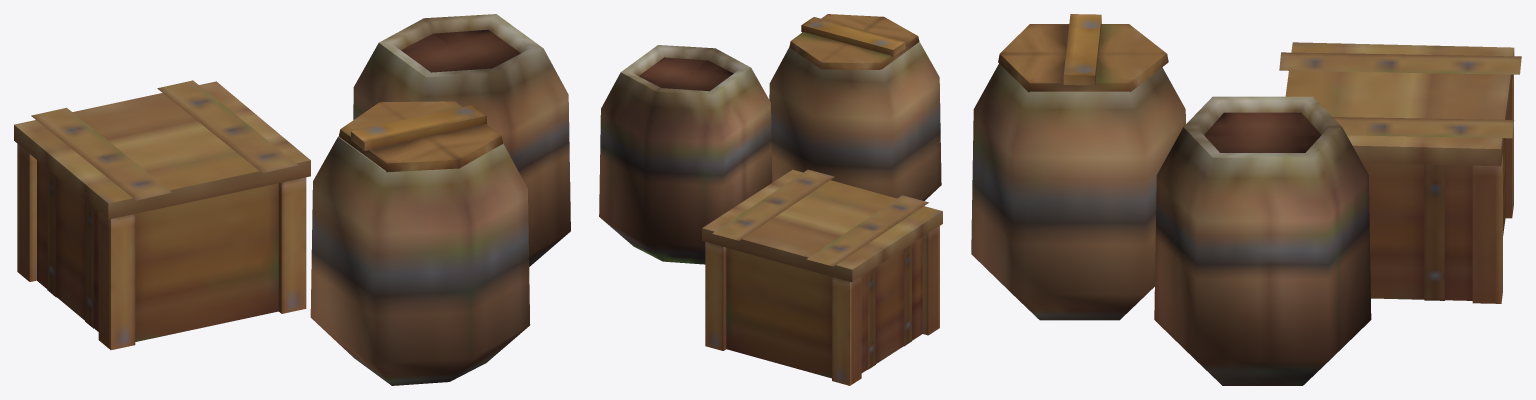
File: area_07_3.FBX
The picture shows the model from 3 angles, left to right: view 1: azimuth 30°, elevation 25°; view 2: azimuth 150°, elevation 25°; view 3: azimuth 270°, elevation 25°; orthographic projection. The views are drawn at different scales.
Parts seen in each view (by area): view 1: area_07_3; view 2: area_07_3; view 3: area_07_3.
Boxes of the visible parts, <box> form: area_07_3: <box>14,14,570,385</box>; area_07_3: <box>599,14,942,385</box>; area_07_3: <box>971,14,1521,385</box>.
Bounding box in the file's own units: 2.08 × 1.18 × 2.24.
